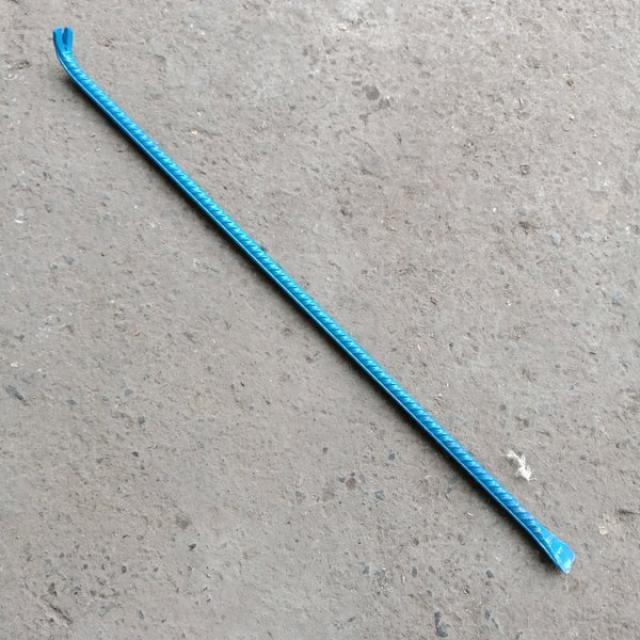Linggis: (39, 22, 586, 582)
